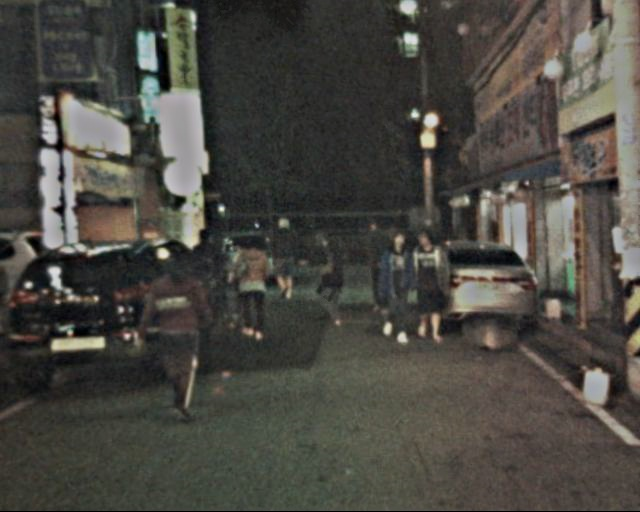person: (145, 245, 213, 420), (404, 228, 452, 338), (373, 233, 421, 338), (185, 227, 227, 330), (234, 235, 273, 334), (311, 231, 350, 322), (265, 212, 305, 299), (359, 222, 394, 305)
